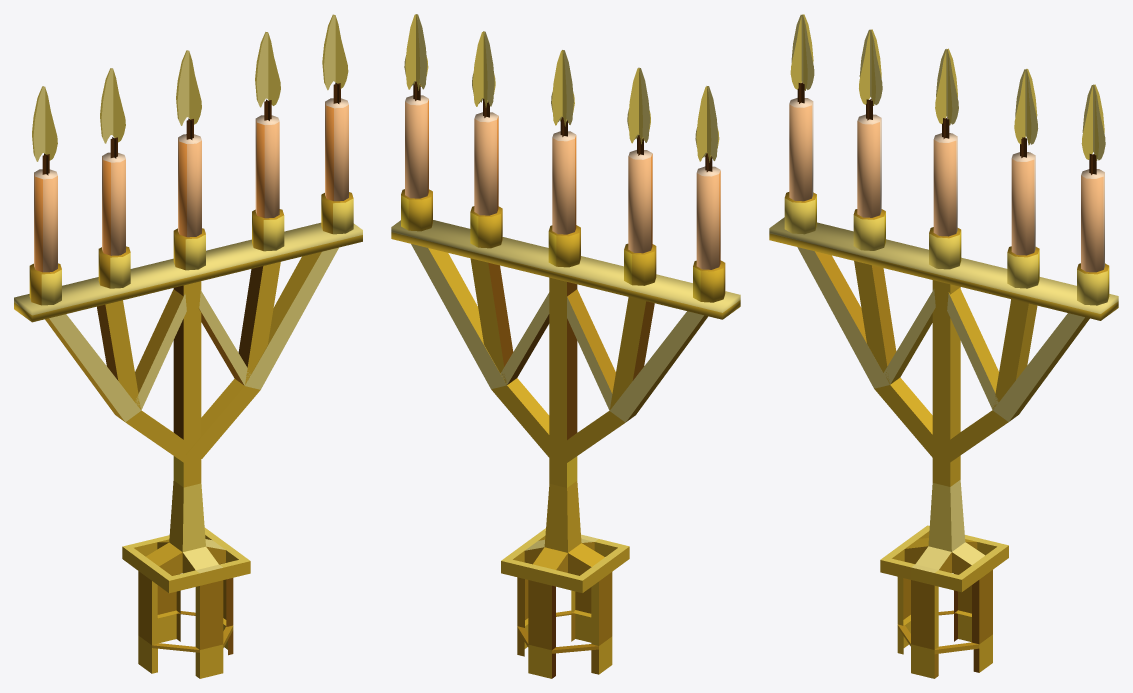
The model's file is candle_338x04.gltf.
The picture shows the model from 3 angles, left to right: view 1: azimuth 30°, elevation 25°; view 2: azimuth 150°, elevation 25°; view 3: azimuth 330°, elevation 25°; orthographic projection.
Parts seen in each view (by area): view 1: candle_338x04; view 2: candle_338x04; view 3: candle_338x04.
Part boxes in pixels (bbox=[...]): candle_338x04: bbox=[14, 14, 362, 678]; candle_338x04: bbox=[391, 14, 740, 678]; candle_338x04: bbox=[769, 14, 1118, 678].
Size of the model in its own units: 1.3 by 2.28 by 0.3189.
1 material, 1 textured.
